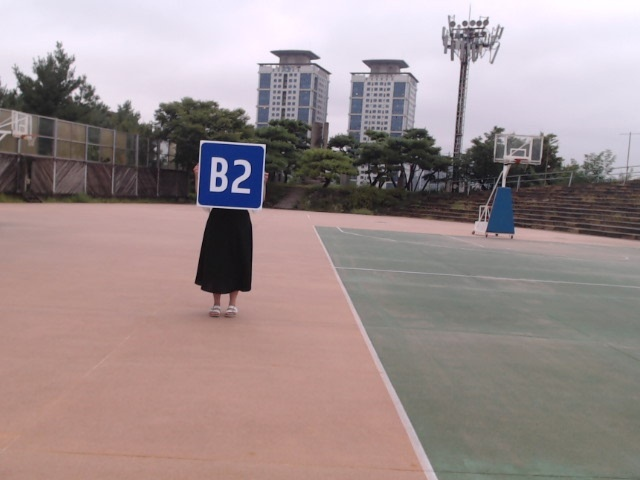delivery_b2: (195, 142, 266, 210)
